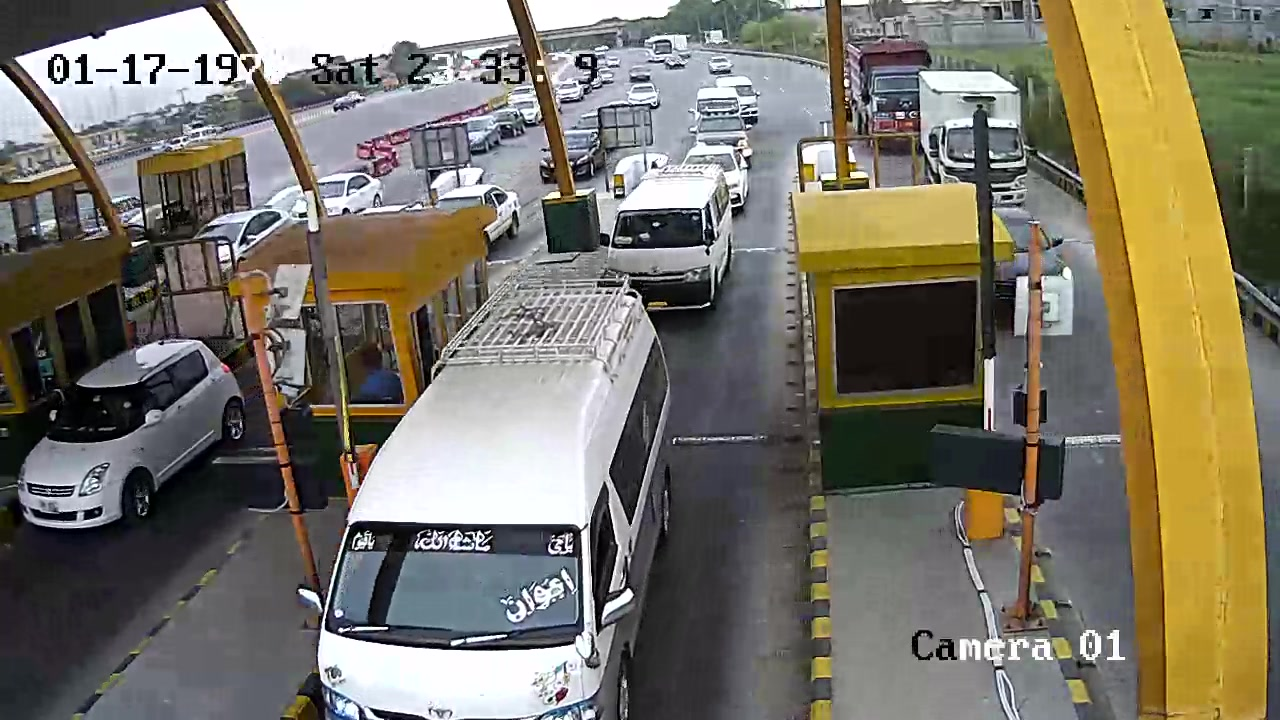F2: (317, 277, 678, 718), (595, 161, 739, 318)
